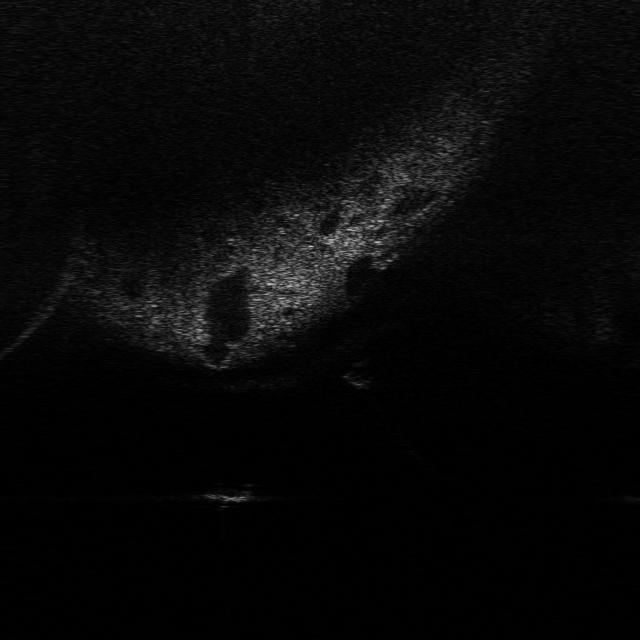ball: (339, 357, 388, 390)
cube: (193, 480, 259, 510)
